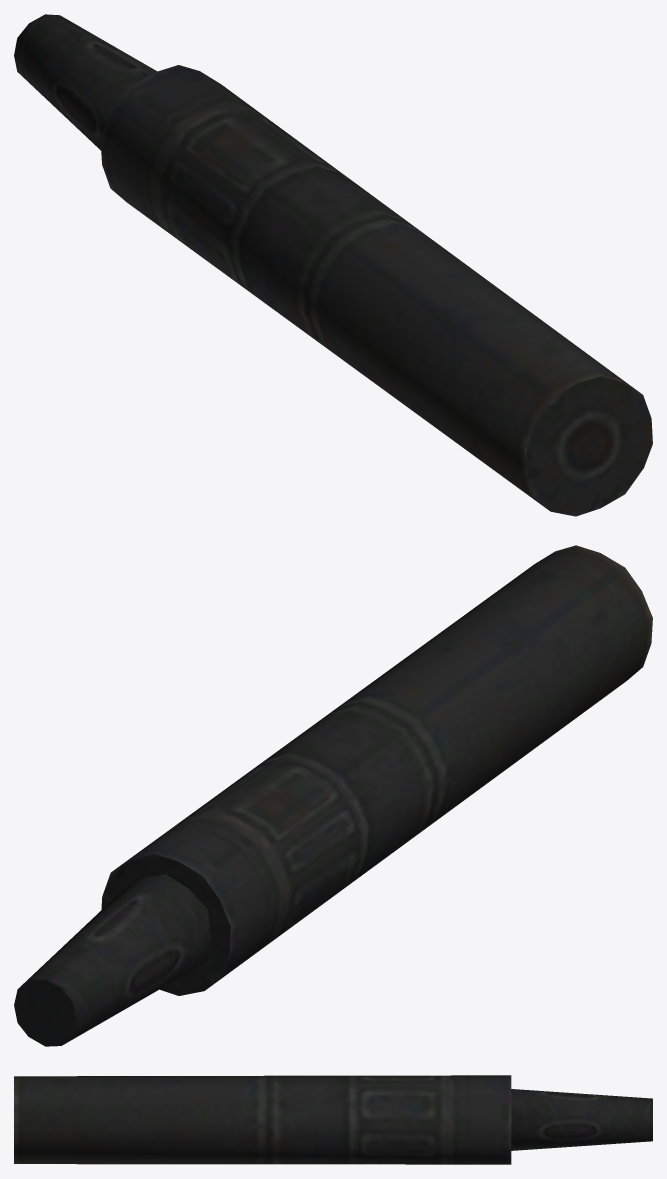
Rendered from SMG_cfq_xsq_01_Suppressor_Main_(000345).glb.
The picture shows the model from 3 angles, top to bottom: view 1: azimuth 30°, elevation 25°; view 2: azimuth 150°, elevation 25°; view 3: azimuth 270°, elevation 25°; orthographic projection. The views are drawn at different scales.
Parts seen in each view (by area): view 1: cfq_xsq_01; view 2: cfq_xsq_01; view 3: cfq_xsq_01.
Boxes of the visible parts, left/top/right/bottom form: cfq_xsq_01: left=14, top=14, right=652, bottom=516; cfq_xsq_01: left=14, top=545, right=652, bottom=1046; cfq_xsq_01: left=14, top=1075, right=652, bottom=1164.
Bounding box in the file's own units: 0.0465 × 0.0465 × 0.3356.
1 material, 1 textured.
